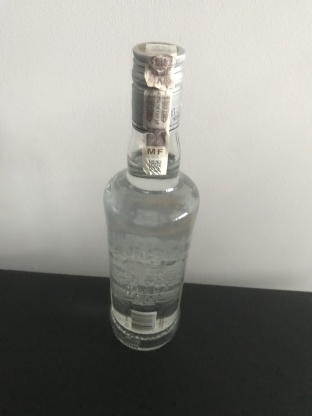nakretka: (130, 39, 187, 135)
